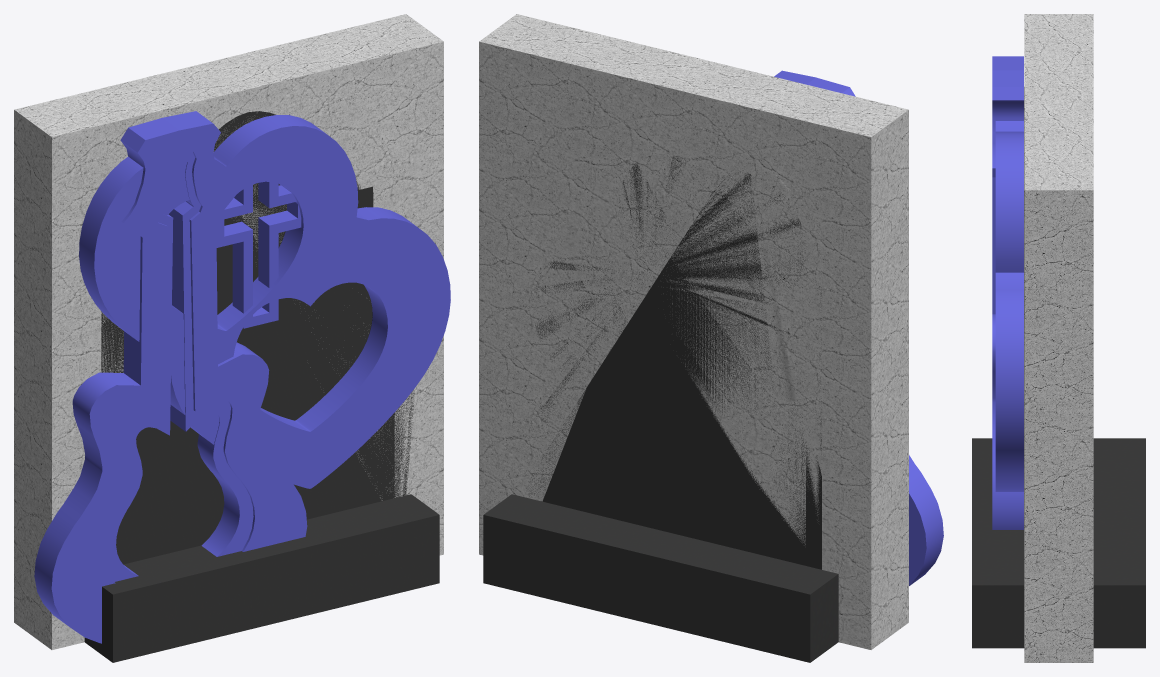
The model's file is Graves.fbx.
3 renders of one model, left to right at view 1: azimuth 30°, elevation 25°; view 2: azimuth 150°, elevation 25°; view 3: azimuth 270°, elevation 25°, orthographic. The views are drawn at different scales.
Visible parts, largest first — view 1: G1 Block, G1 Stencil, G2 Stencil, G2 Block, Base, G3, G3 Block, G2, G2 Stencil2, Cross Stencil, G1; view 2: G1 Block, G2 Block, G1, Base, G3, G3 Block, G2 Stencil; view 3: G1 Block, Base, G1 Stencil, G2 Stencil.
Part boxes in pixels (bbox=[...]): G1 Block: bbox=[14, 14, 443, 649]; G1 Stencil: bbox=[79, 115, 450, 488]; G2 Stencil: bbox=[34, 111, 307, 643]; G2 Block: bbox=[52, 42, 443, 649]; Base: bbox=[84, 494, 439, 662]; G3: bbox=[101, 111, 394, 519]; G3 Block: bbox=[52, 43, 443, 648]; G2: bbox=[116, 178, 414, 564]; G2 Stencil2: bbox=[104, 152, 253, 581]; Cross Stencil: bbox=[216, 181, 301, 328]; G1: bbox=[218, 211, 382, 499]; G1 Block: bbox=[479, 14, 908, 649]; G2 Block: bbox=[479, 43, 871, 649]; G1: bbox=[535, 156, 805, 544]; Base: bbox=[483, 494, 838, 662]; G3: bbox=[529, 302, 821, 569]; G3 Block: bbox=[479, 42, 871, 648]; G2 Stencil: bbox=[774, 70, 943, 585]; G1 Block: bbox=[1024, 14, 1093, 662]; Base: bbox=[972, 438, 1145, 648]; G1 Stencil: bbox=[995, 121, 1023, 491]; G2 Stencil: bbox=[992, 56, 1023, 529].
Bounding box in the file's own units: 251 × 302 × 100.
